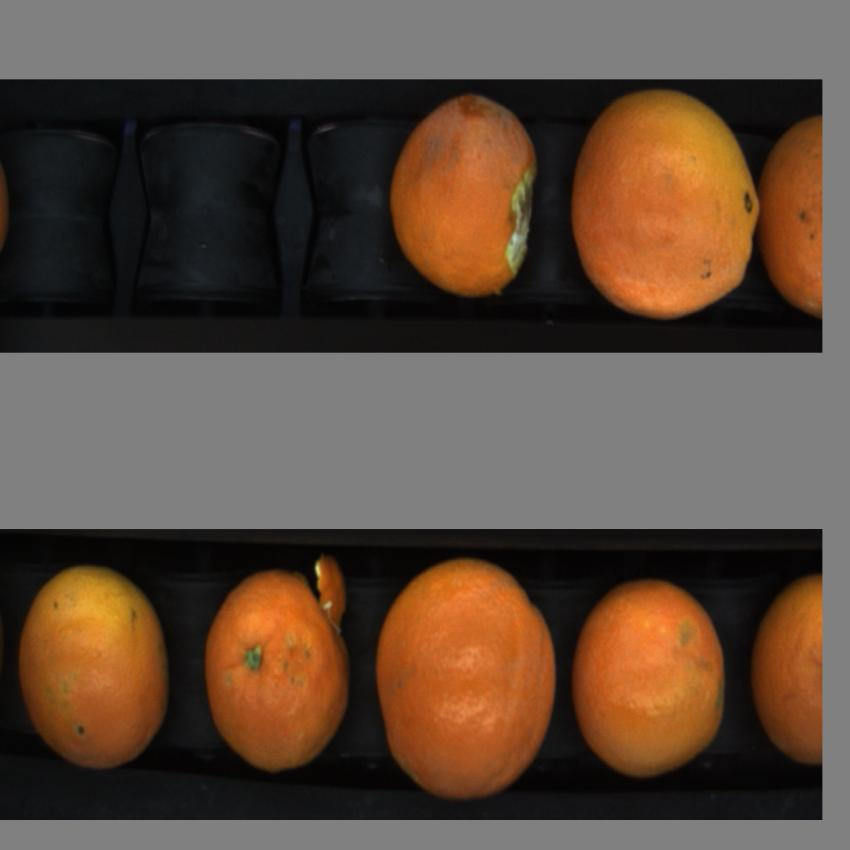Buen estado: (370, 553, 558, 804), (569, 82, 762, 322), (15, 555, 173, 788), (567, 574, 729, 778), (757, 107, 827, 328), (748, 574, 822, 781)
Mal estado: (386, 90, 544, 306), (208, 563, 359, 782)
